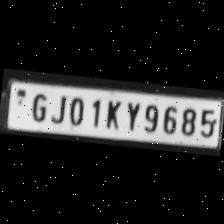0: (64, 92, 88, 126)
1: (84, 94, 104, 128)
5: (196, 105, 218, 138)
6: (158, 102, 179, 134)
8: (176, 102, 198, 136)
9: (139, 99, 161, 133)
G: (26, 88, 49, 122)
J: (48, 90, 68, 125)
K: (100, 96, 124, 130)
Y: (122, 97, 142, 131)
